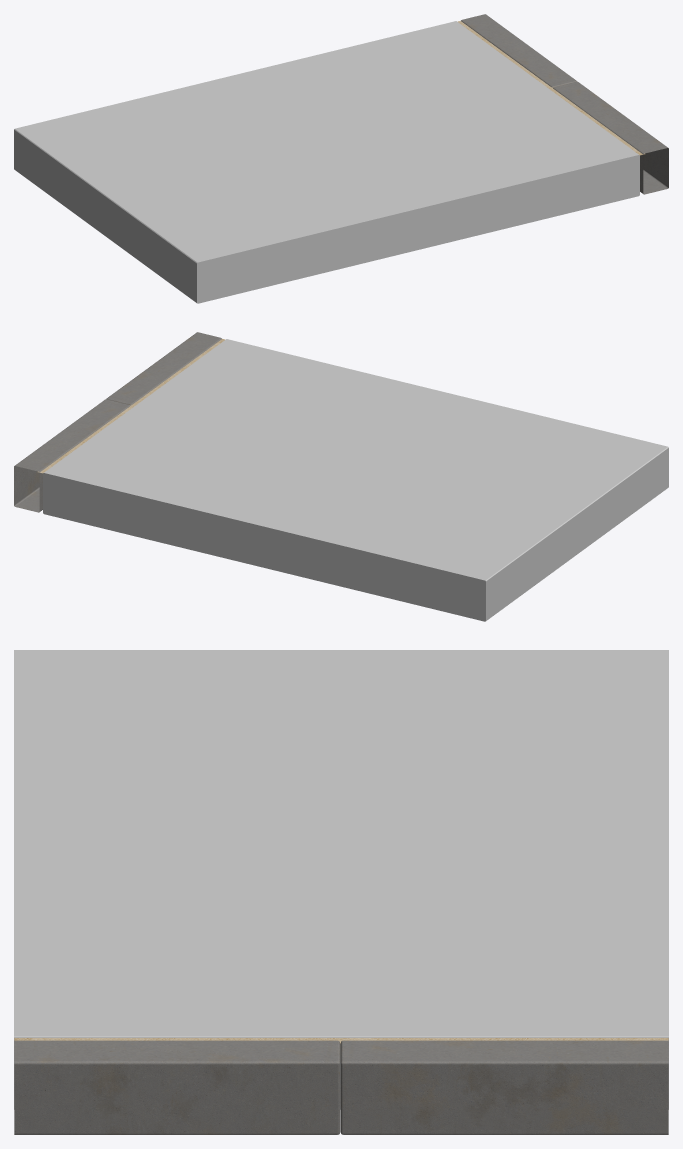
File: SM_DG_HG_Floor01A.fbx
The picture shows the model from 3 angles, top to bottom: view 1: azimuth 30°, elevation 25°; view 2: azimuth 150°, elevation 25°; view 3: azimuth 270°, elevation 25°; orthographic projection. The views are drawn at different scales.
Visible parts, largest first — view 1: SM_DG_HG_Floor01A_ConvexHulls, SM_DG_HG_Floor01A; view 2: SM_DG_HG_Floor01A_ConvexHulls, SM_DG_HG_Floor01A; view 3: SM_DG_HG_Floor01A_ConvexHulls, SM_DG_HG_Floor01A.
Boxes of the visible parts, x1,y1,x2,y2 form: SM_DG_HG_Floor01A_ConvexHulls: (14, 21, 639, 303); SM_DG_HG_Floor01A: (457, 14, 668, 194); SM_DG_HG_Floor01A_ConvexHulls: (43, 339, 668, 621); SM_DG_HG_Floor01A: (14, 332, 225, 512); SM_DG_HG_Floor01A_ConvexHulls: (14, 650, 668, 1109); SM_DG_HG_Floor01A: (14, 1038, 668, 1134).
Size of the model in its own units: 370 by 248 by 30.88.
Materials: 3 (2 with a texture image).
